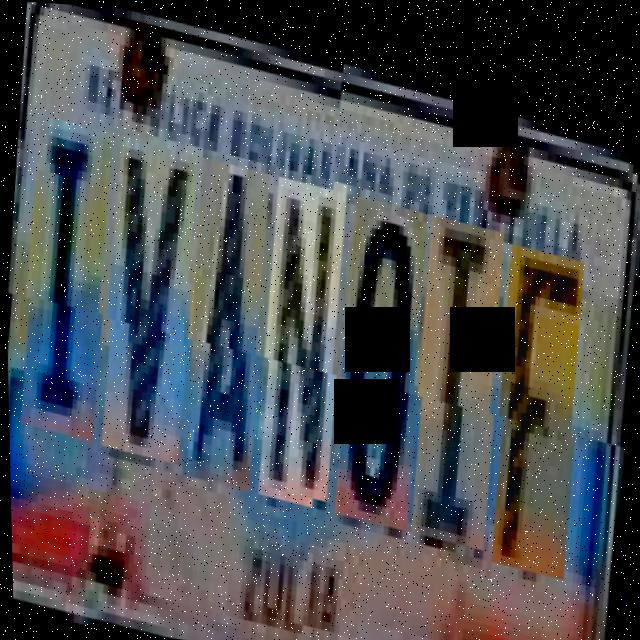A: (174, 150, 280, 484)
F: (484, 235, 594, 571)
I: (404, 208, 514, 544), (13, 115, 122, 442)
N: (251, 167, 357, 501)
O: (328, 193, 437, 528)
V: (94, 131, 208, 460)
